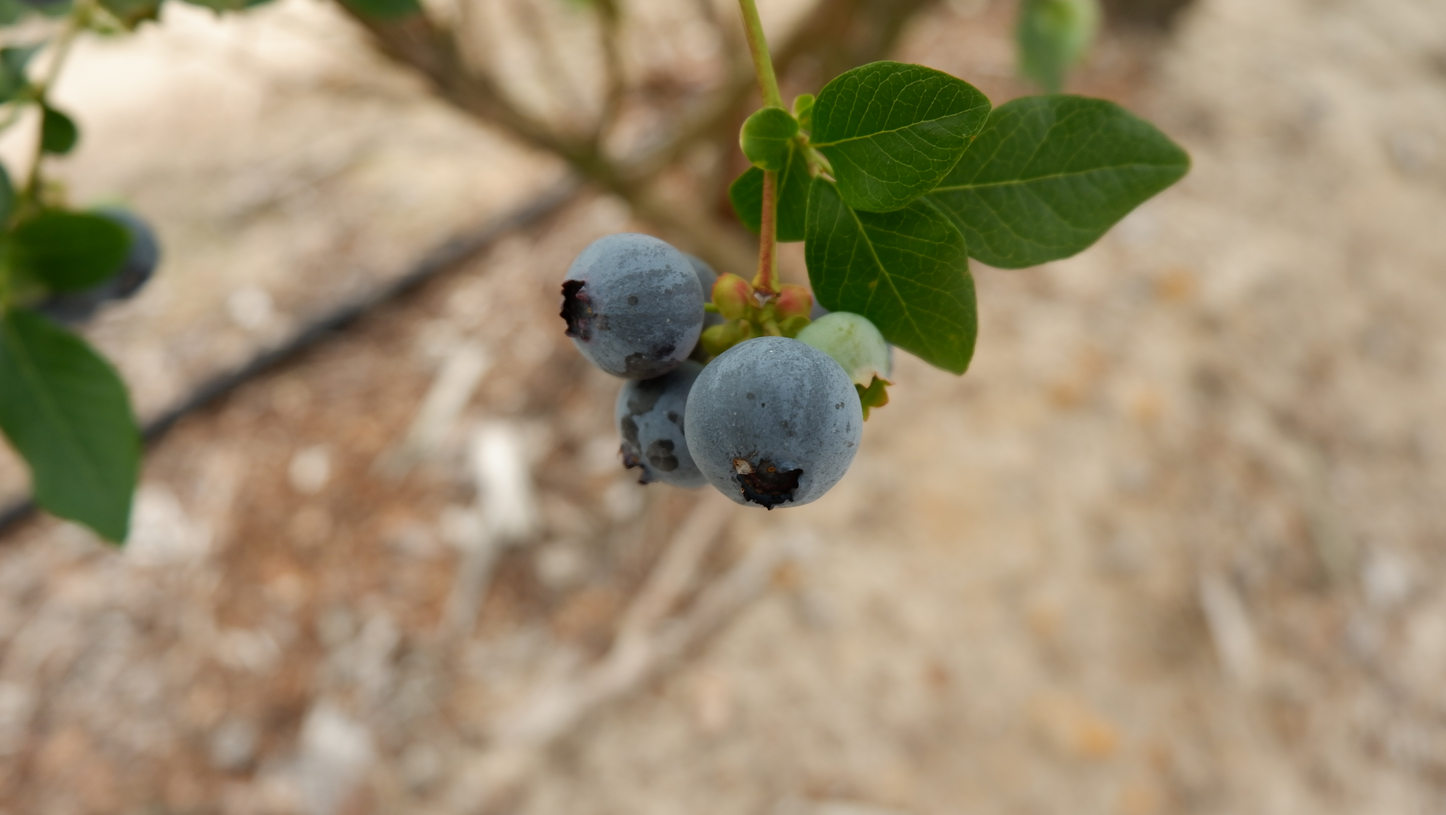Immature: (794, 311, 897, 421)
Mature: (683, 336, 863, 510), (559, 231, 704, 380), (614, 357, 707, 490), (682, 252, 722, 364)
